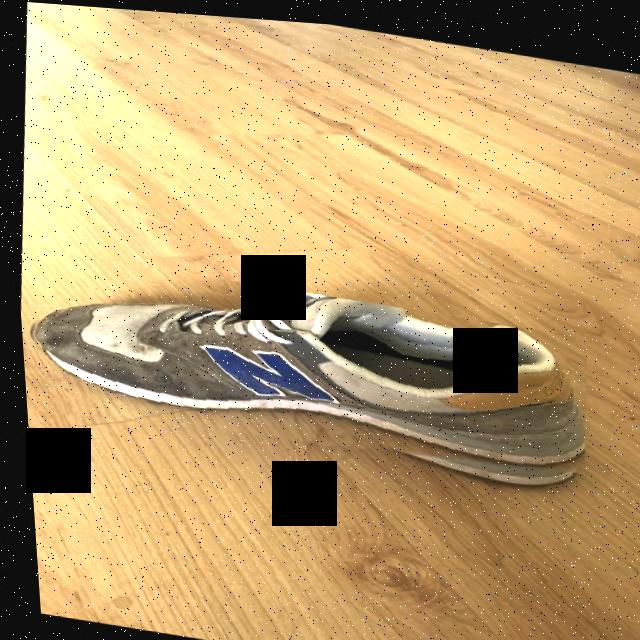shoe: (13, 247, 591, 490)
